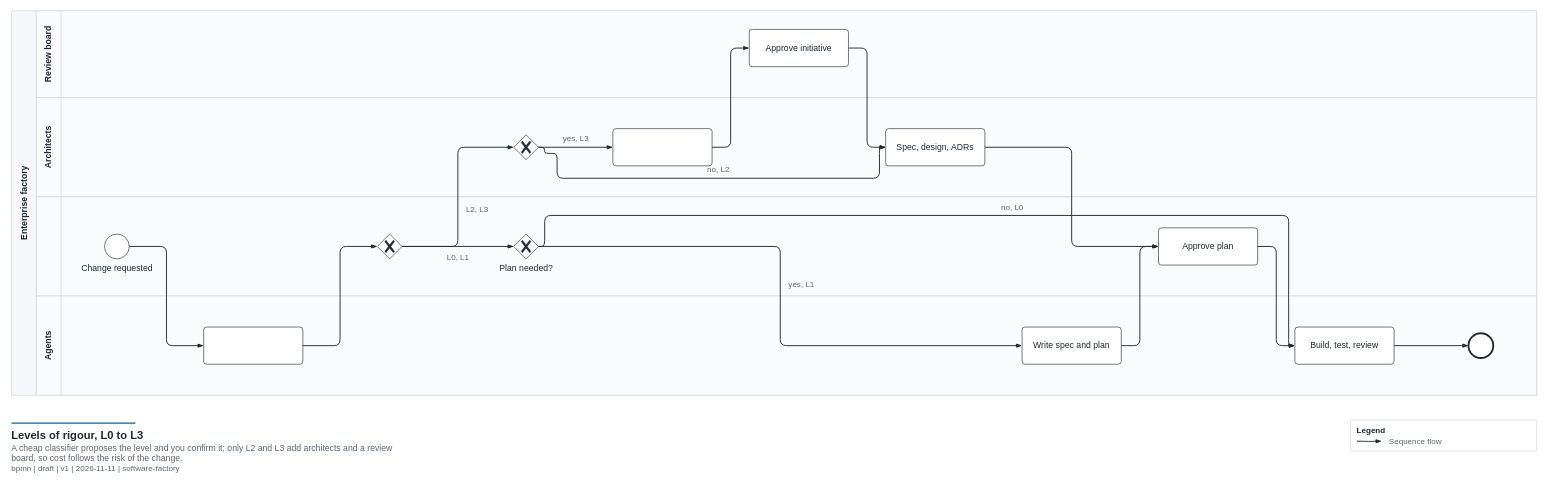
This 1548x487 diagram has some shape labels left out. Here are the shapes that lost their labels. From the top down, the box of each, then its label:
(513, 134, 538, 160): Initiative?
(612, 128, 712, 166): Align with strategy
(377, 233, 402, 259): Level?
(36, 196, 1537, 296): You
(203, 326, 303, 364): Propose a level
(1468, 333, 1493, 358): Ready to ship
